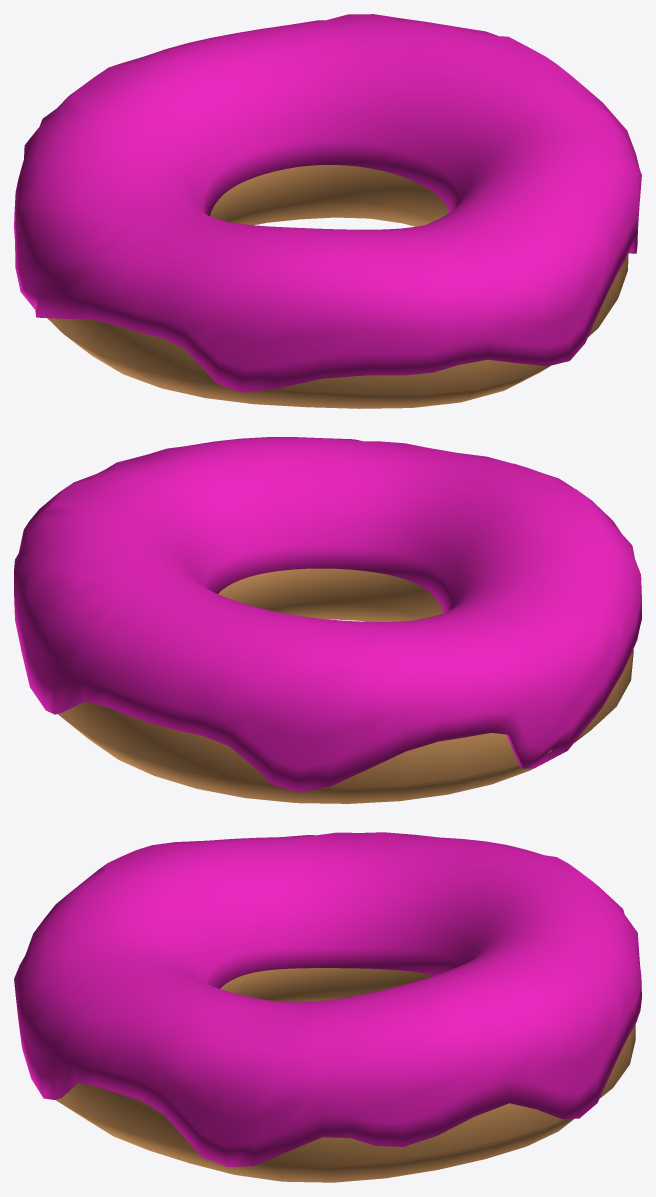
Rendered from donut.glb.
3 views of the same model, one above another, from view 1: azimuth 30°, elevation 25°; view 2: azimuth 150°, elevation 25°; view 3: azimuth 270°, elevation 25° (orthographic). The views are drawn at different scales.
Parts seen in each view (by area): view 1: Icing, Donut; view 2: Icing, Donut; view 3: Icing, Donut.
Boxes of the visible parts, x1,y1,x2,y2 form: Icing: (14,14,641,392); Donut: (35,165,628,408); Icing: (14,437,641,792); Donut: (58,568,633,803); Icing: (14,832,641,1166); Donut: (55,968,635,1182).
Bounding box in the file's own units: 1.81 × 0.6036 × 1.84.
